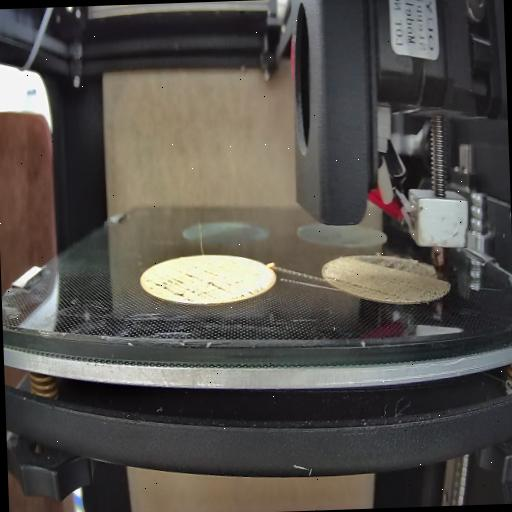under_extrusion: (146, 270, 259, 307), (328, 276, 400, 299), (382, 252, 413, 274)
